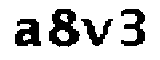3: (118, 4, 147, 51)
8: (48, 6, 81, 49)
a: (10, 18, 42, 50)
v: (81, 17, 115, 46)
